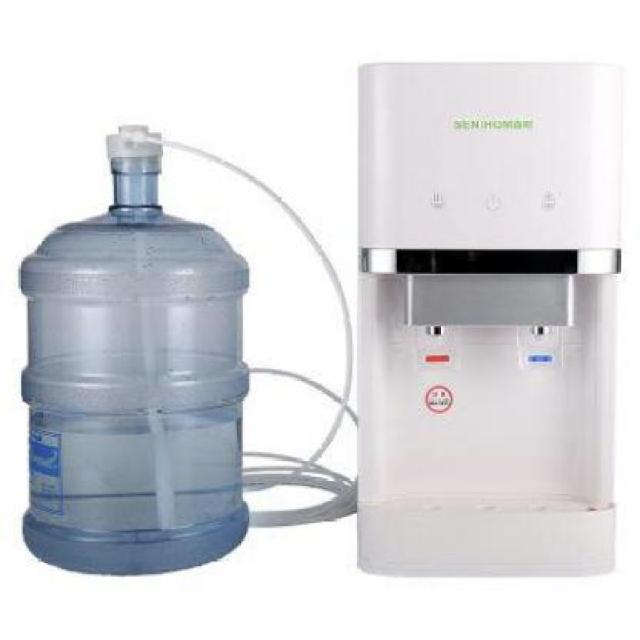coolerbottle: (12, 148, 258, 583)
